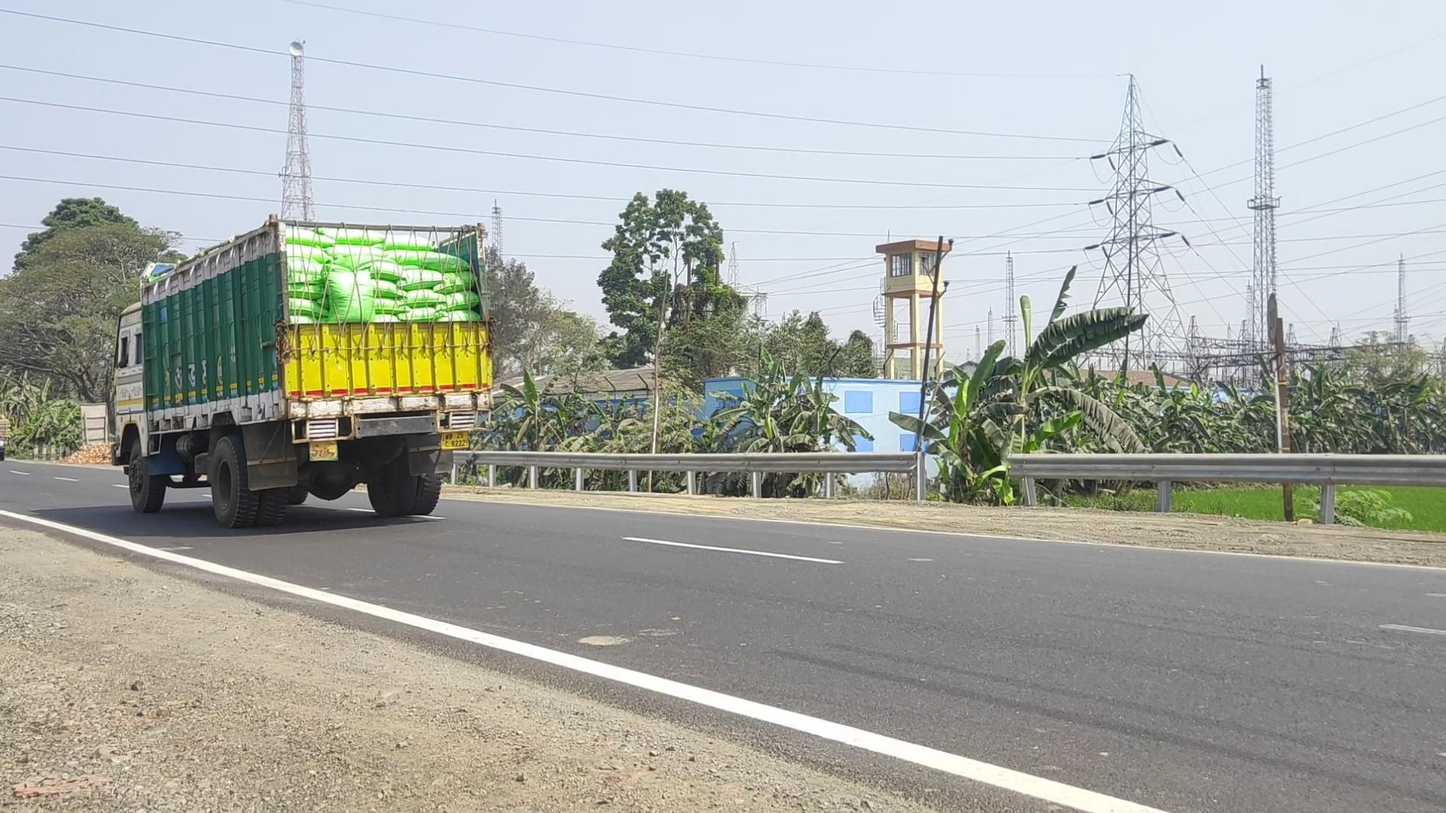truck: (111, 212, 499, 526)
